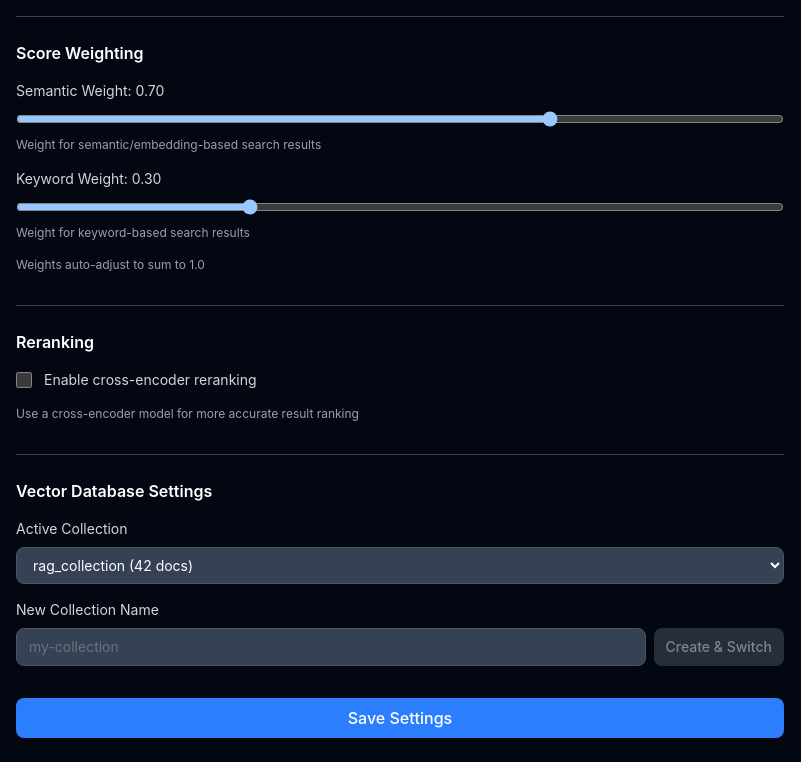
it: SettingsPanel › validates_new_collection_name_input
This screenshot has width=801, height=762.
(page scrolled)
Type "ab" into the field labelled "New Collection Name" at [331, 647], box [16,628,646,666]
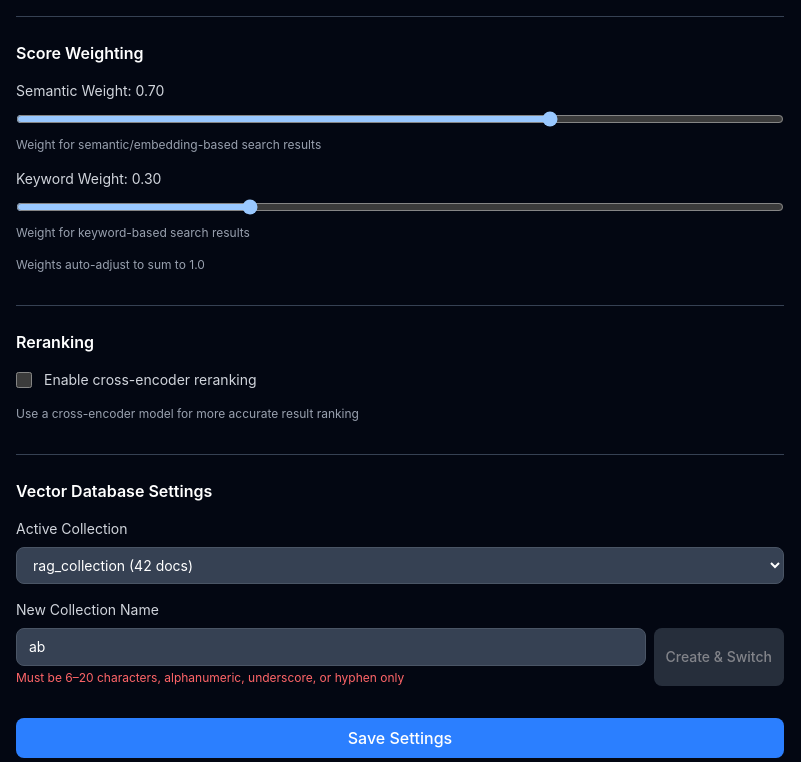
expect the button with aria-label "create and switch" is disabled: met, box [654,628,784,686]
expect the text "Must be 6–20 characters, alphanumeric, underscore, or hyphen only" is shown: met, box [16,670,404,685]
